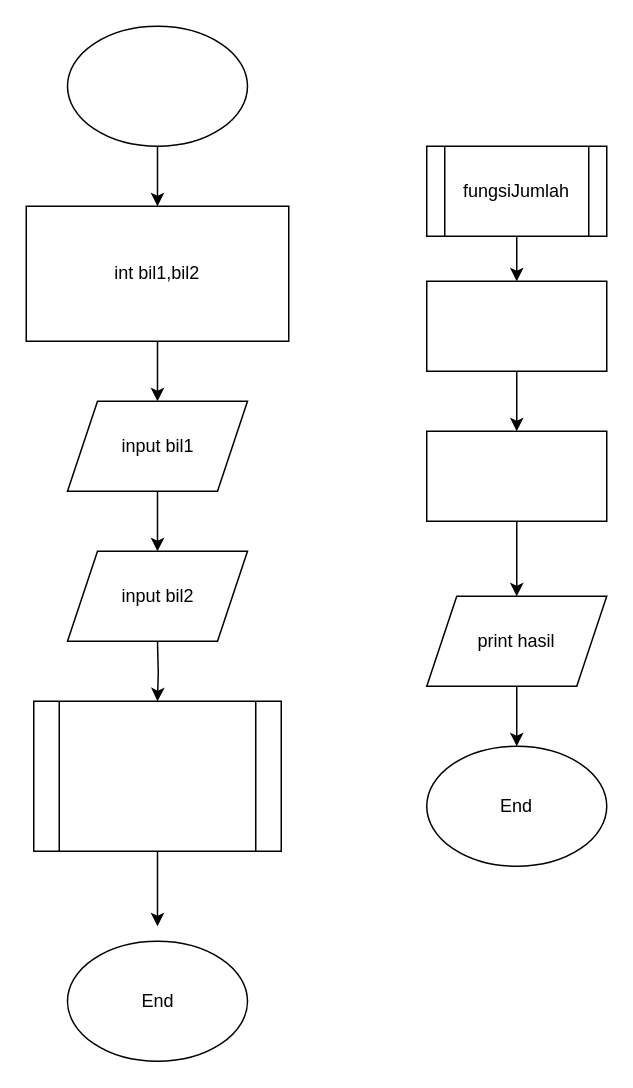
The diagram is 633 pixels wide and 1088 high, and some of its shapes have lost their labels. Each missing label, with the centre of its shape:
fungsiJumlah(bil1,bil2): point 156,775
hasil = bil1 + bil2: point 516,475
int bil1,bil2,hasil: point 516,325
start: point 157,85
